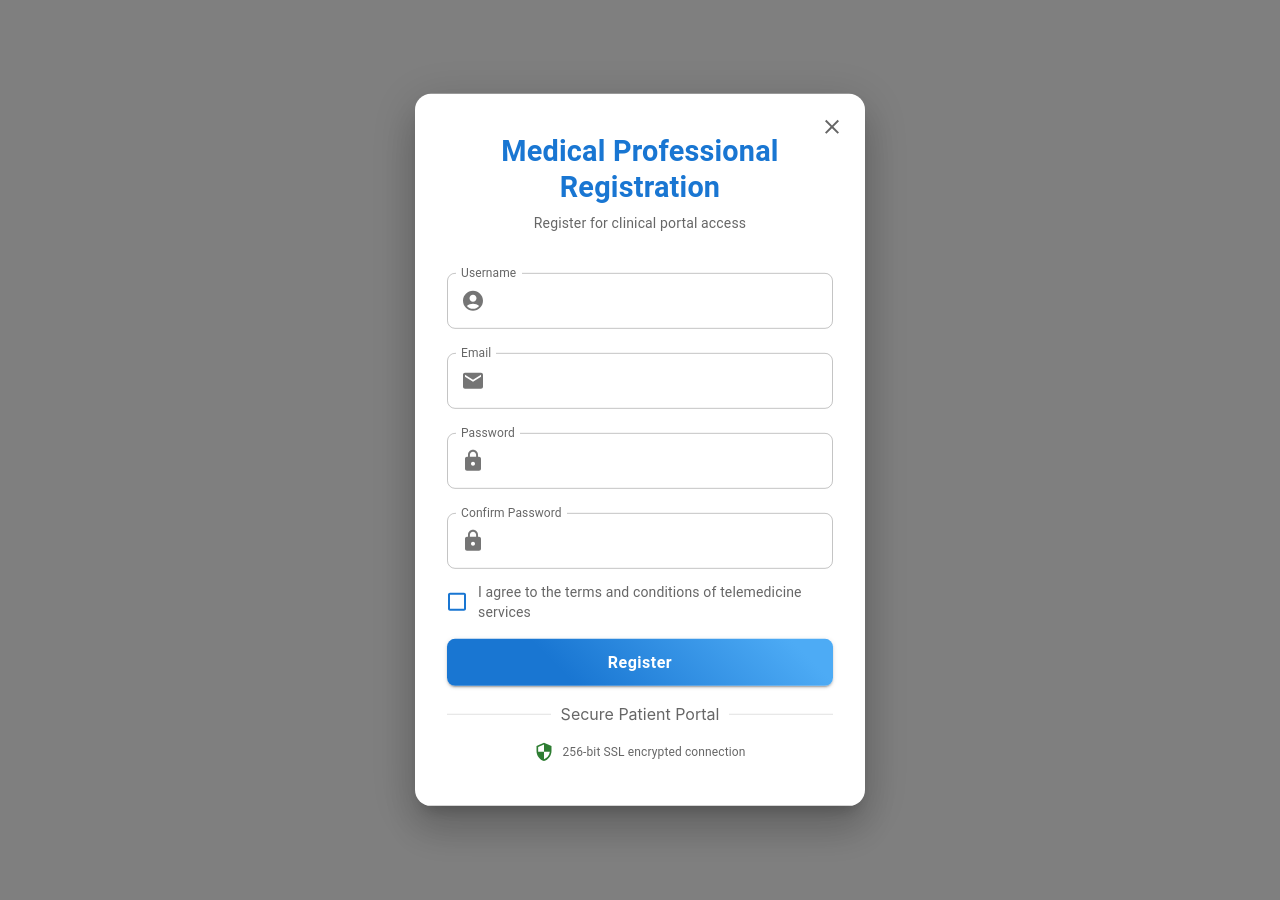
Test: DoctorRegisterPage › shows password mismatch error
Type "testpass" into the password field labelled "Password". click: (663, 461)
box: x1=493 y1=433 x2=833 y2=489
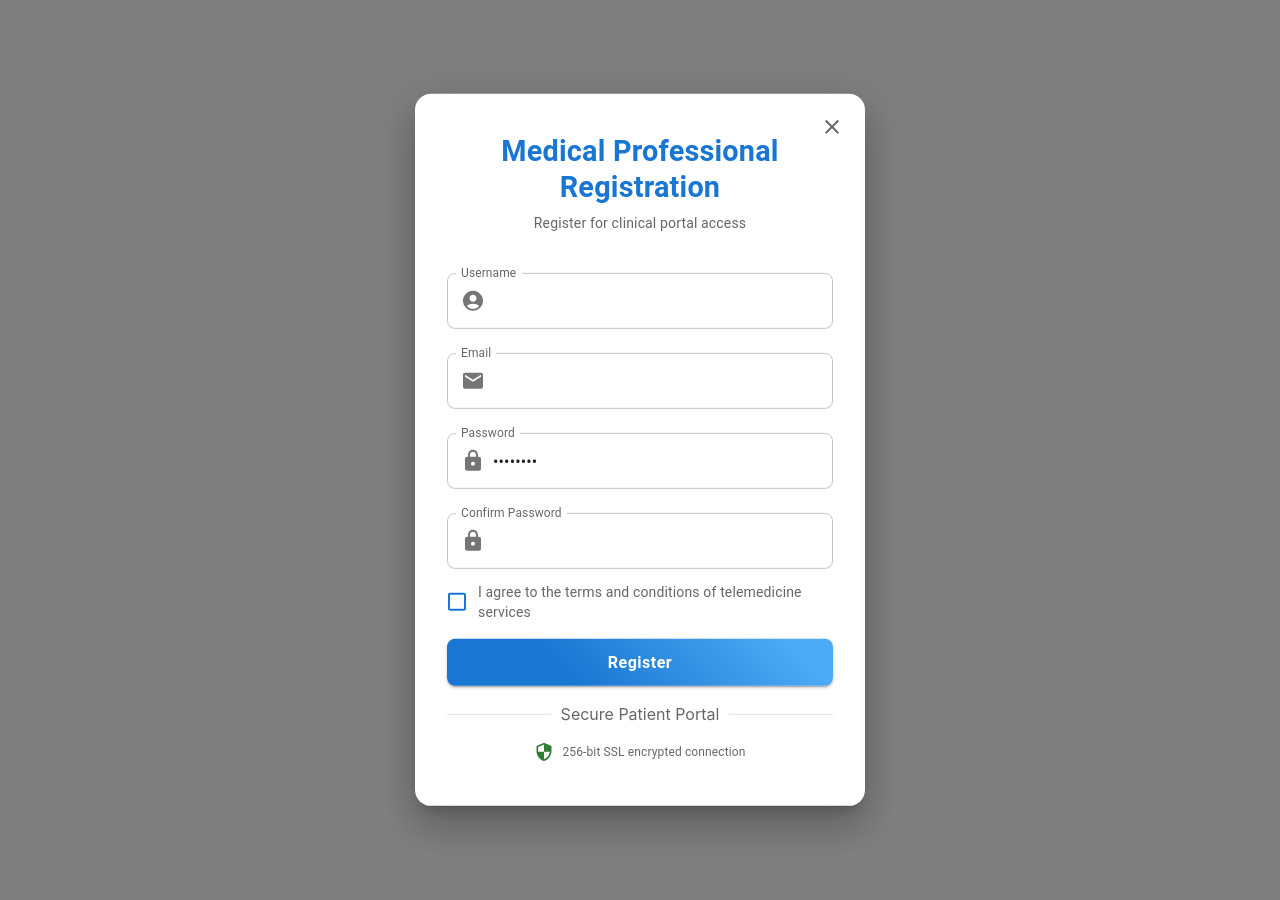
Type "wrongpass" into the password field labelled "Confirm Password". click: (663, 541)
box: x1=493 y1=513 x2=833 y2=569
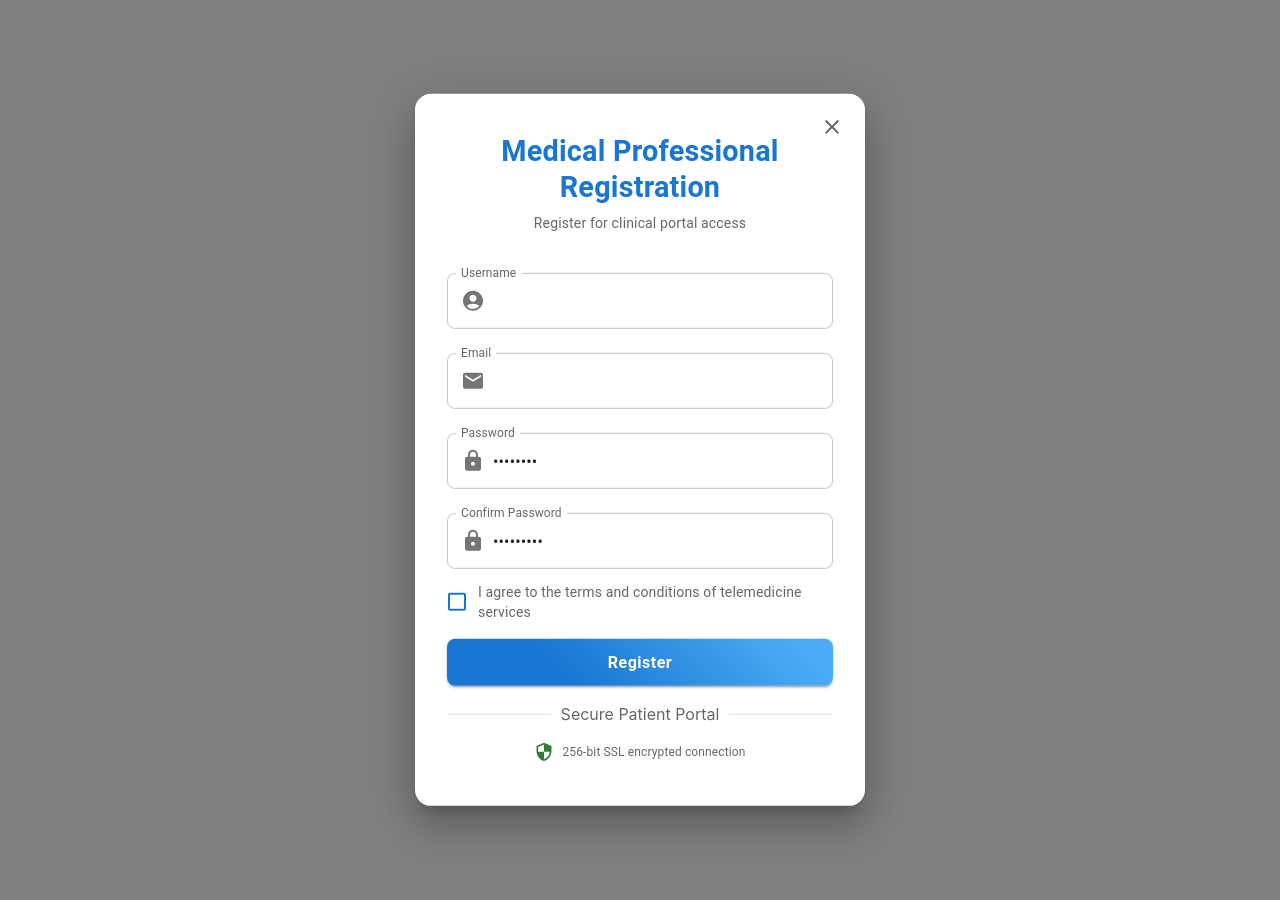
Click the button "Register". click: (640, 663)
box: x1=447 y1=639 x2=833 y2=686
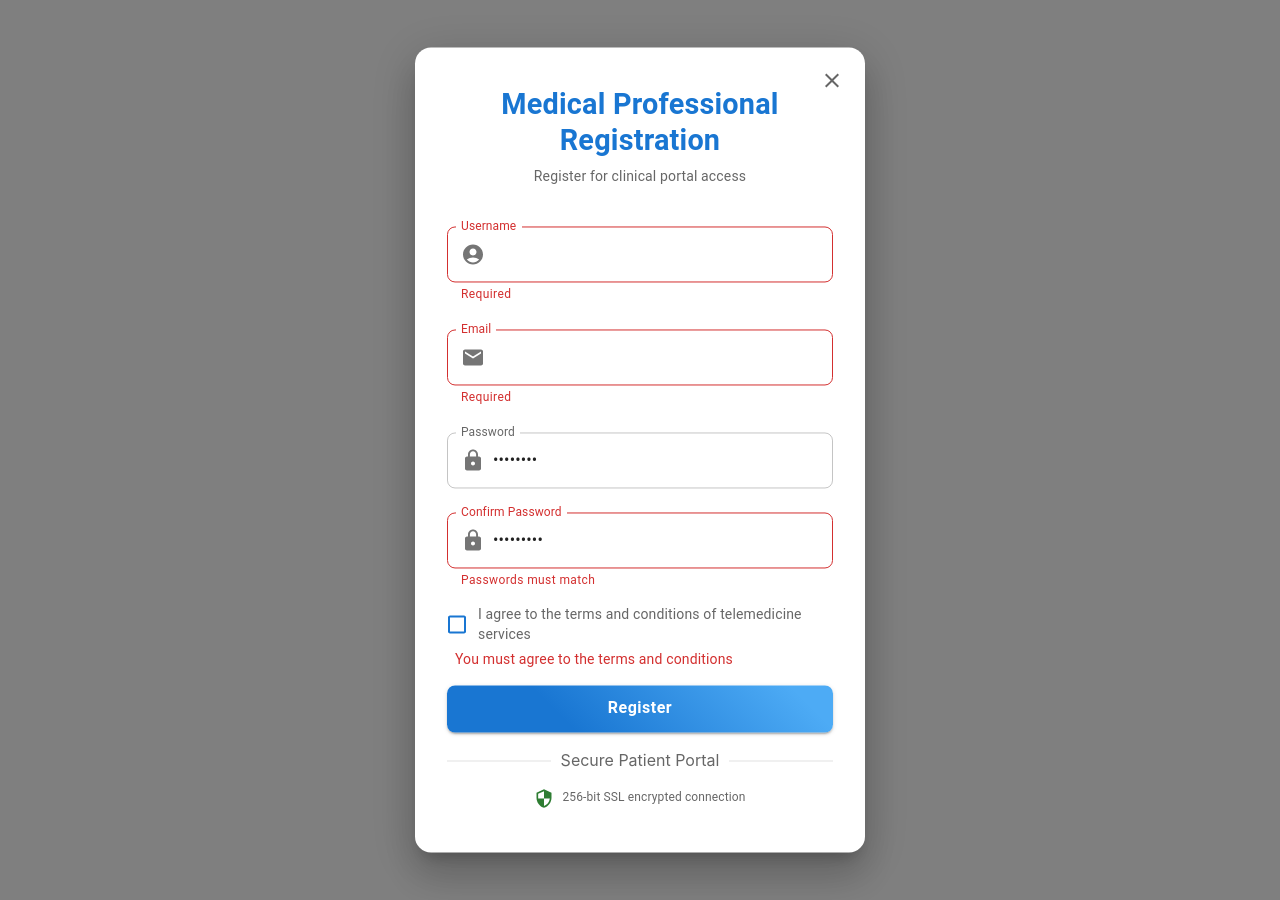
Result: the text "Passwords must match" is shown at x1=461 y1=573 x2=595 y2=587
